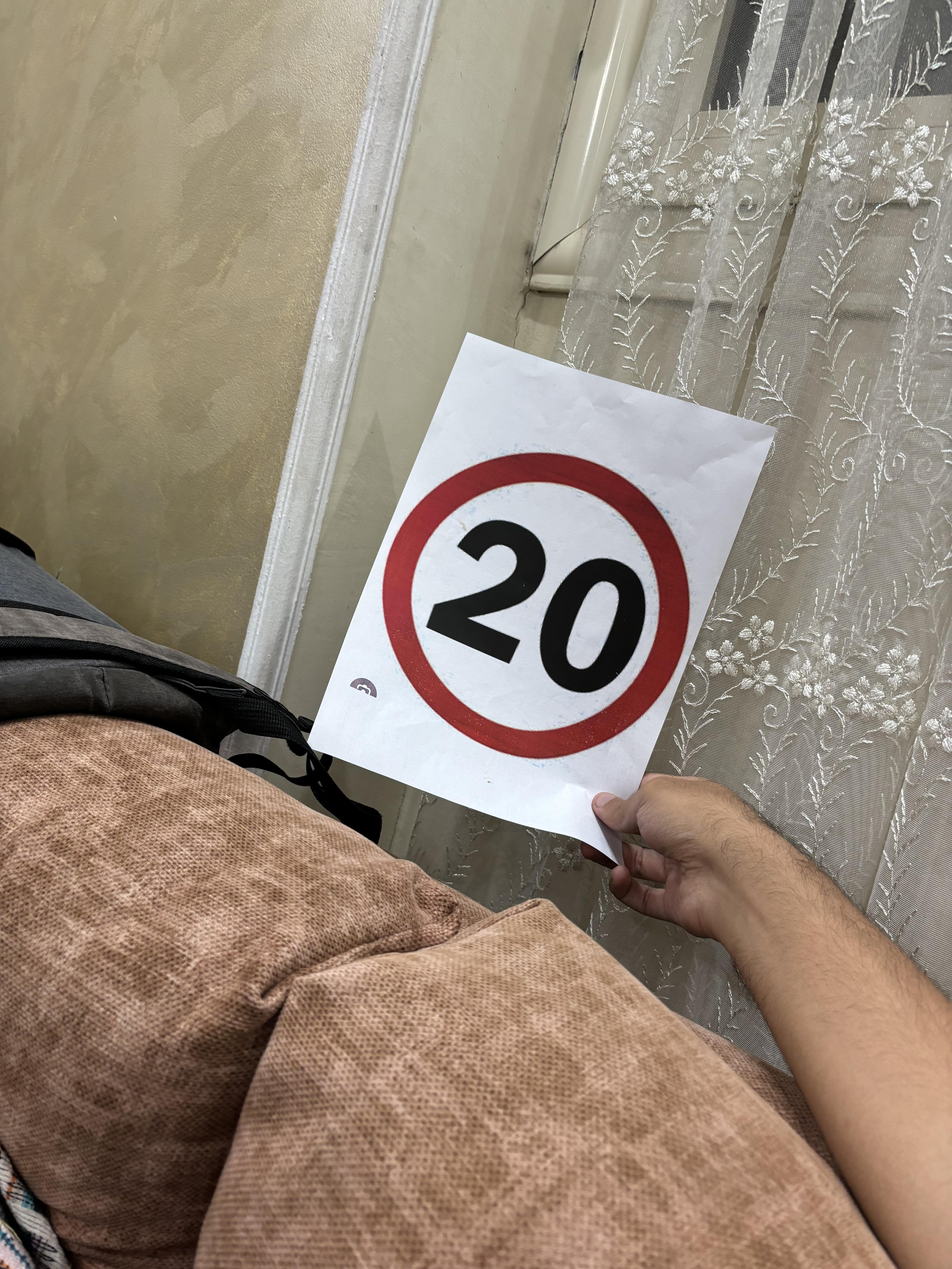20-Speed: (383, 438, 699, 751)
